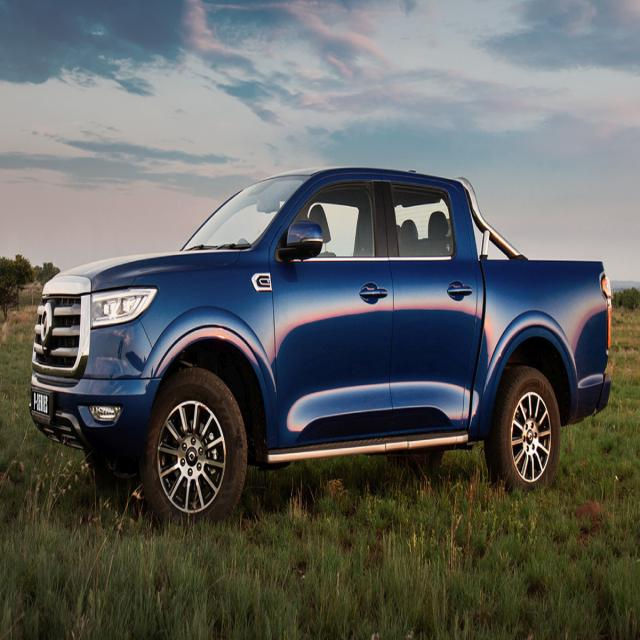Pickup Trucks: (29, 167, 612, 533)
